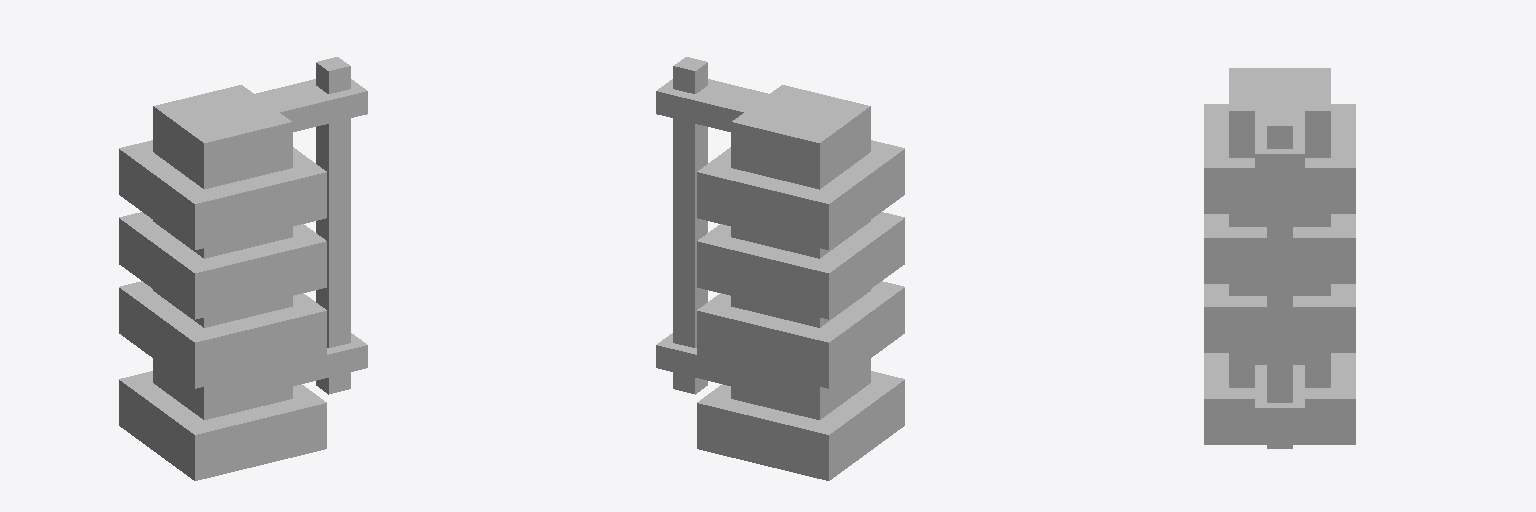
The model's file is discharge_meter_wire.obj.
3 renders of one model, left to right at view 1: azimuth 30°, elevation 25°; view 2: azimuth 150°, elevation 25°; view 3: azimuth 270°, elevation 25°, orthographic.
Parts seen in each view (by area): view 1: Insulator, Wire; view 2: Insulator, Wire; view 3: Insulator, Wire.
Part boxes in pixels (x1,y1,x2,y2): Insulator: (119, 79, 367, 480); Wire: (316, 57, 350, 394); Insulator: (656, 79, 904, 480); Wire: (673, 57, 707, 394); Insulator: (1204, 68, 1355, 444); Wire: (1267, 115, 1292, 448).
Size of the model in its own units: 0.5625 by 0.9375 by 0.375.